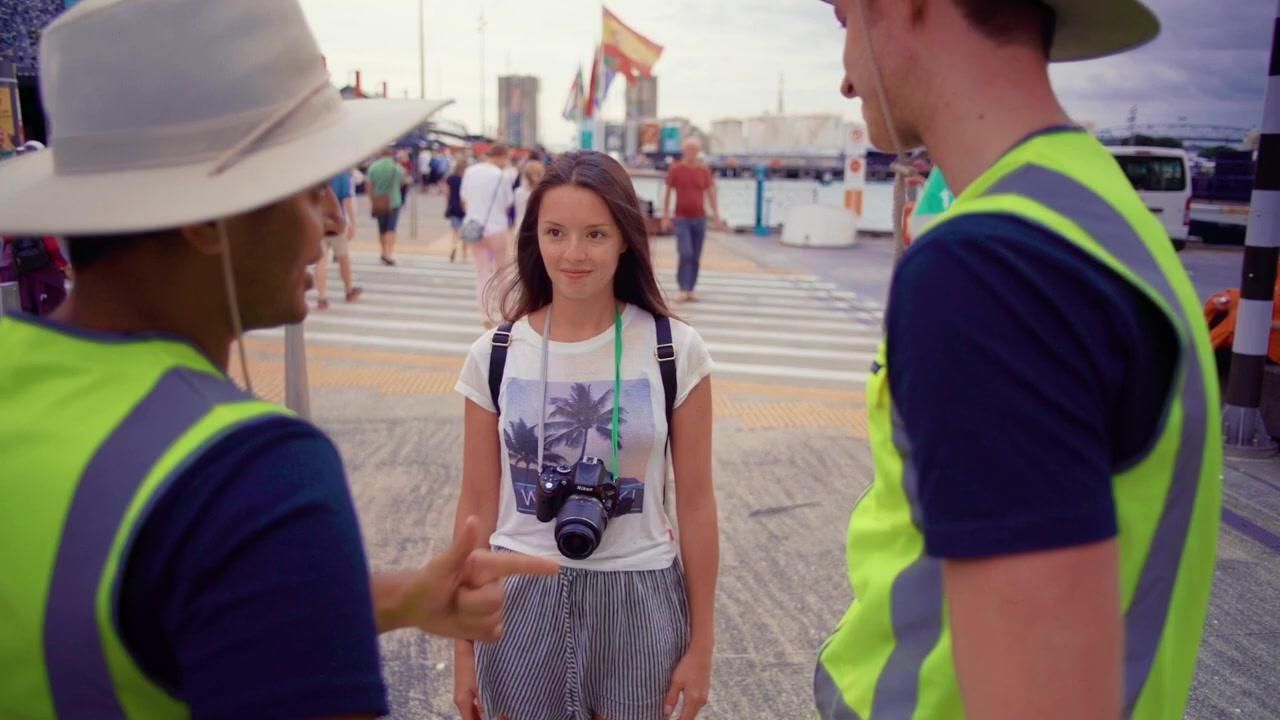vest: (807, 121, 1224, 718), (1, 306, 306, 717)
